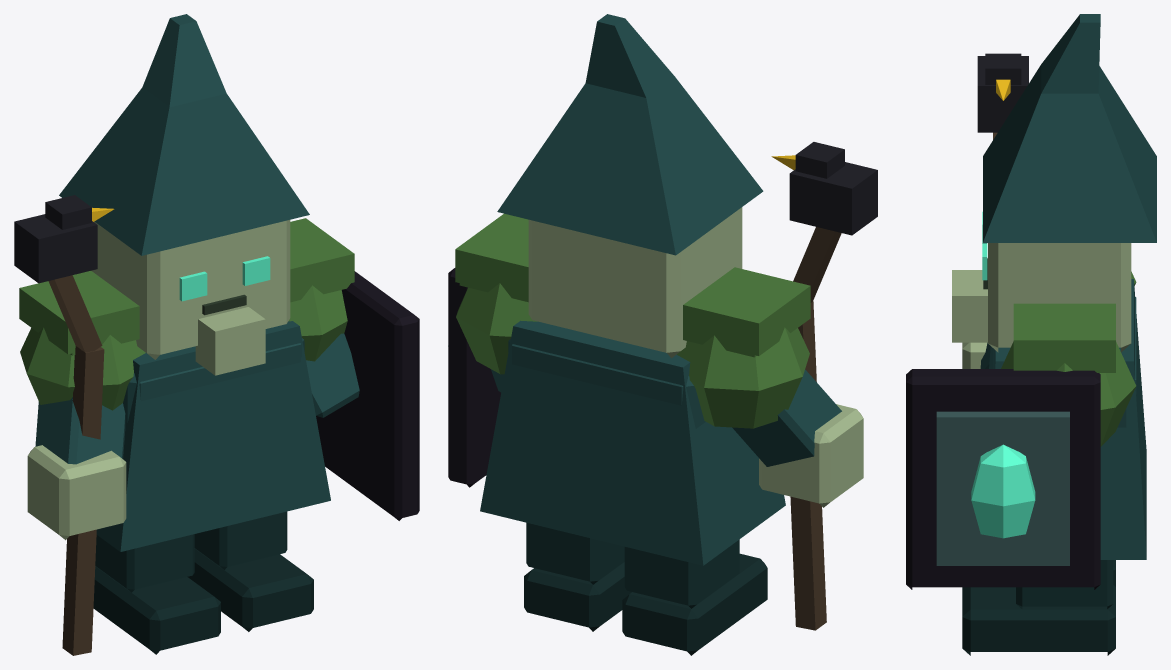
Rendered from r6_mini_hag_commander.glb.
3 views of the same model, side by side, from view 1: azimuth 30°, elevation 25°; view 2: azimuth 150°, elevation 25°; view 3: azimuth 270°, elevation 25° (orthographic). The views are drawn at different scales.
Parts seen in each view (by area): view 1: r6_mini_hag_commander_mesh; view 2: r6_mini_hag_commander_mesh; view 3: r6_mini_hag_commander_mesh.
Boxes of the visible parts, x1,y1,x2,y2 form: r6_mini_hag_commander_mesh: (14, 14, 419, 655); r6_mini_hag_commander_mesh: (448, 14, 877, 655); r6_mini_hag_commander_mesh: (906, 14, 1156, 655).
Size of the model in its own units: 3.27 by 4.6 by 1.73.
Materials: 1 (1 with a texture image).
